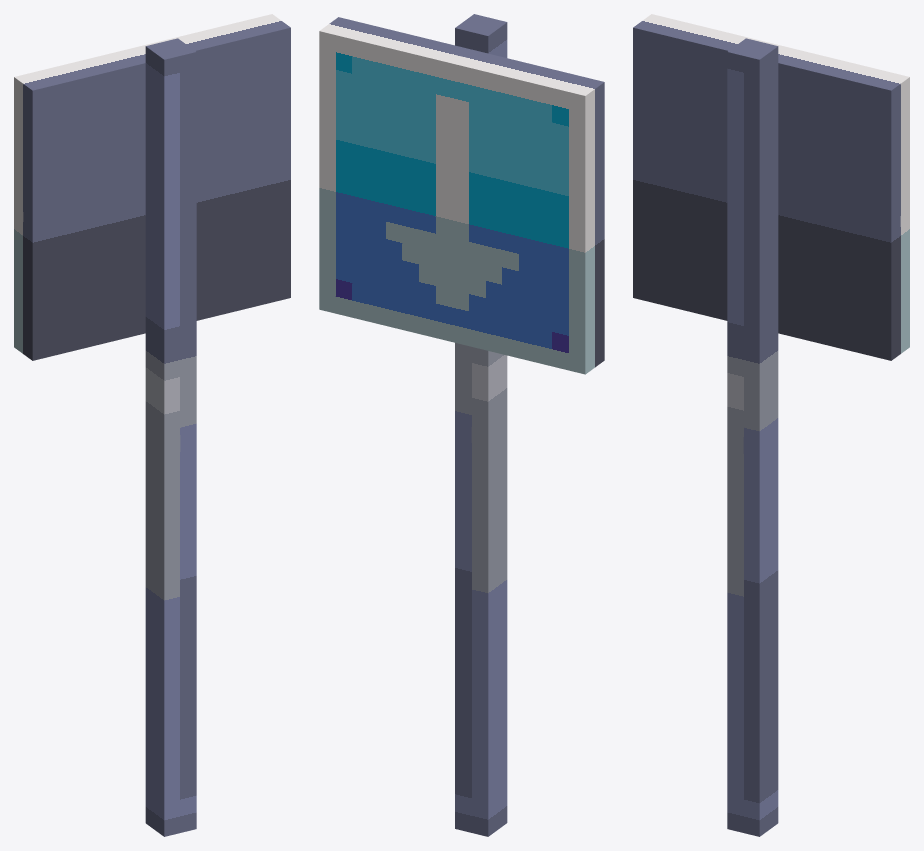
The model's file is directional-street-sign-down.gltf.
3 views of the same model, side by side, from view 1: azimuth 30°, elevation 25°; view 2: azimuth 150°, elevation 25°; view 3: azimuth 330°, elevation 25° (orthographic). The views are drawn at different scales.
Visible parts, largest first — view 1: cube (×2); view 2: cube (×2); view 3: cube (×2).
Boxes of the visible parts, <box> form: cube (×2): <box>14,14,290,836</box>; cube (×2): <box>319,14,604,836</box>; cube (×2): <box>633,14,909,836</box>.
Bounding box in the file's own units: 1 × 2.88 × 0.25.
Materials: 1 (1 with a texture image).
